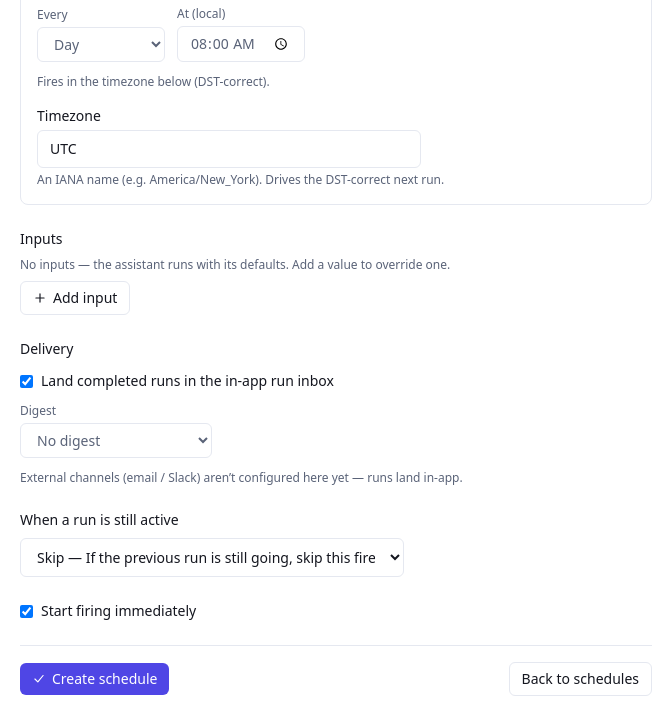
ScheduleEditor (create) › blocks submit and prompts for an assistant when none is picked (AC-4)
This screenshot has width=669, height=720.
(page scrolled)
Click the button "Create schedule" at (95, 679), box [20,663,169,695]
(page scrolled)
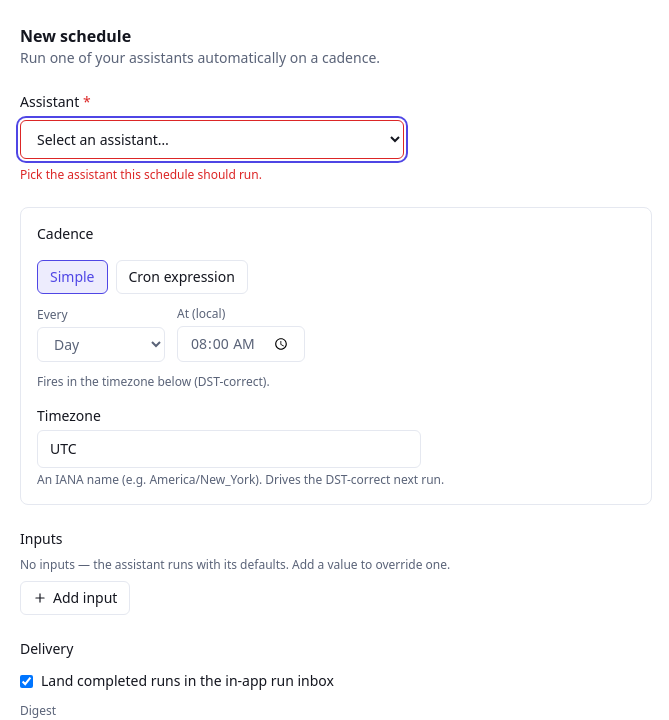
expect the text "Pick the assistant this schedule should run." is shown: met, box [20,166,262,183]
